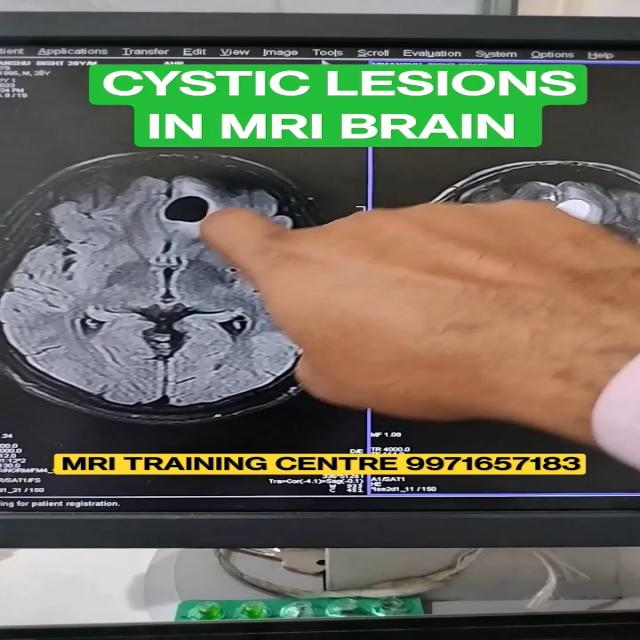tumor: (143, 174, 247, 247)
